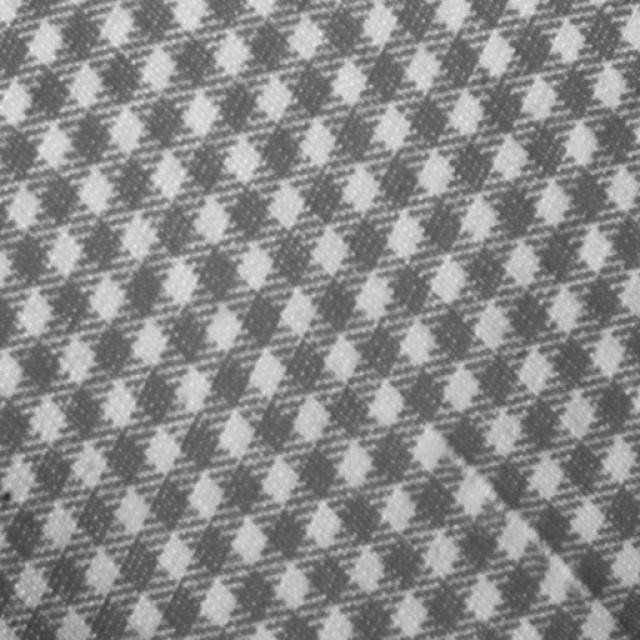Thread-Defect: (425, 431, 623, 628)
